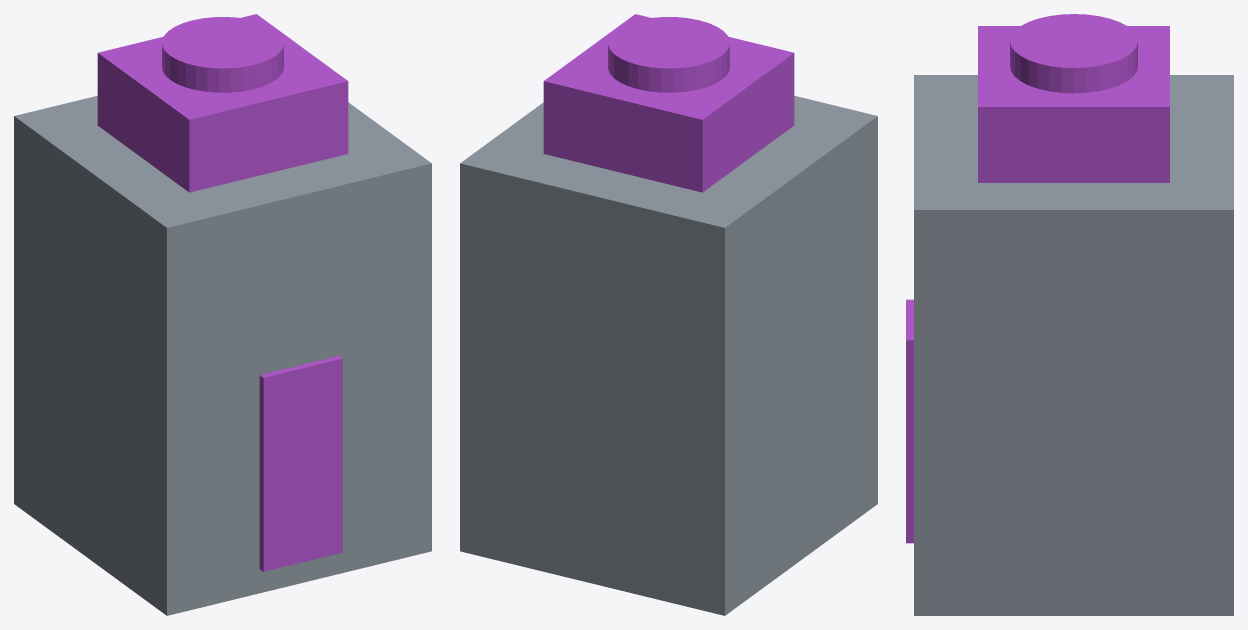
File: CH_Radar_LOD0.glb
3 views of the same model, side by side, from view 1: azimuth 30°, elevation 25°; view 2: azimuth 150°, elevation 25°; view 3: azimuth 270°, elevation 25° (orthographic). The views are drawn at different scales.
Visible parts, largest first — view 1: EntranceGate; view 2: EntranceGate; view 3: EntranceGate.
Part boxes in pixels (x1=…): EntranceGate: x1=14, y1=14, x2=431, y2=615; EntranceGate: x1=460, y1=14, x2=877, y2=615; EntranceGate: x1=906, y1=14, x2=1233, y2=615.
Bounding box in the file's own units: 400 × 700 × 410.
